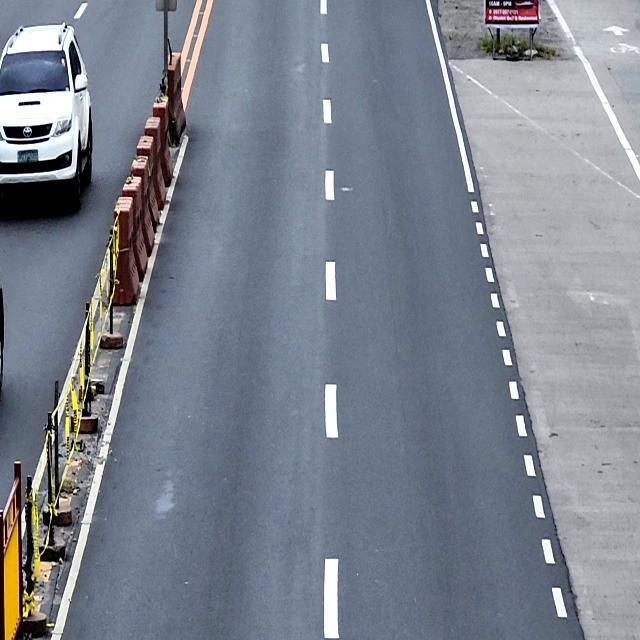Car: (0, 21, 95, 212)
License-Plate: (16, 149, 40, 164)
